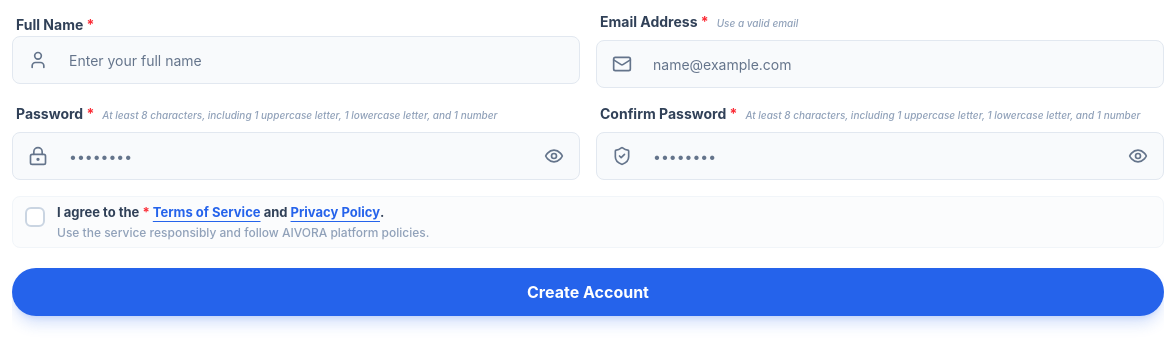
Test case: RegisterForm Component › shows and clears the terms validation error styles
The width and height of the screenshot is (1176, 363).
Step 1. Type "Client QA" into the field labelled "Full Name *" → (296,60), box [12, 36, 580, 84]
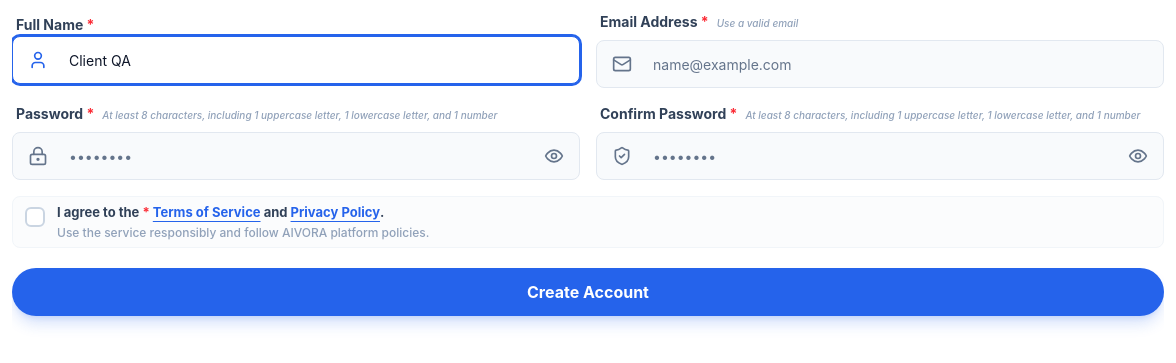
Step 2. Type "client@example.com" into the field labelled "Email Address * Use a valid email" → (880,64), box [596, 40, 1164, 88]
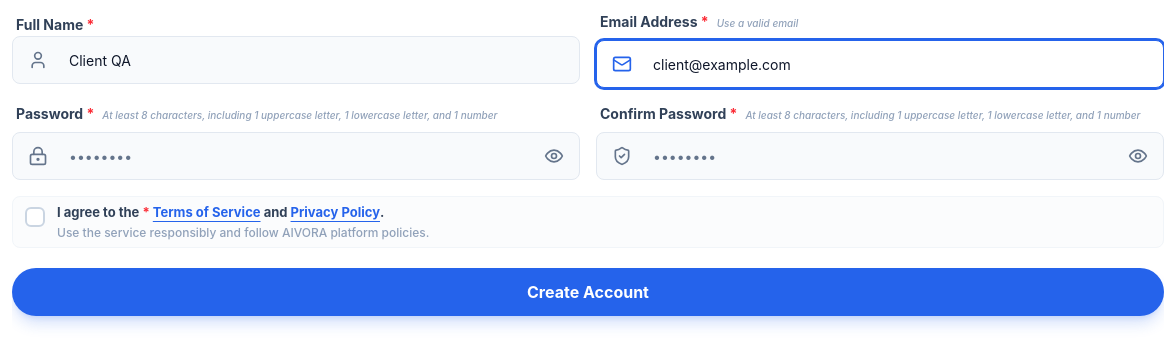
Step 3. Type "Password1" into the password field labelled "Password" → (296,156), box [12, 132, 580, 180]
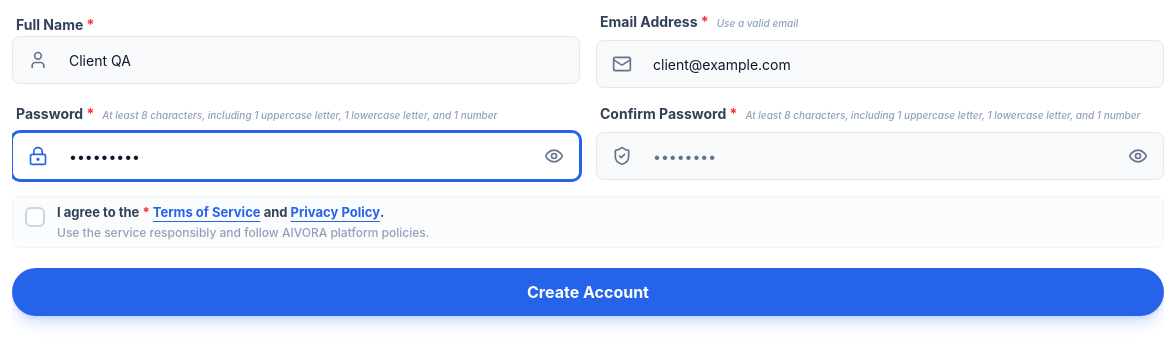
Step 4. Type "Password1" into the password field labelled "Confirm Password" → (880,156), box [596, 132, 1164, 180]
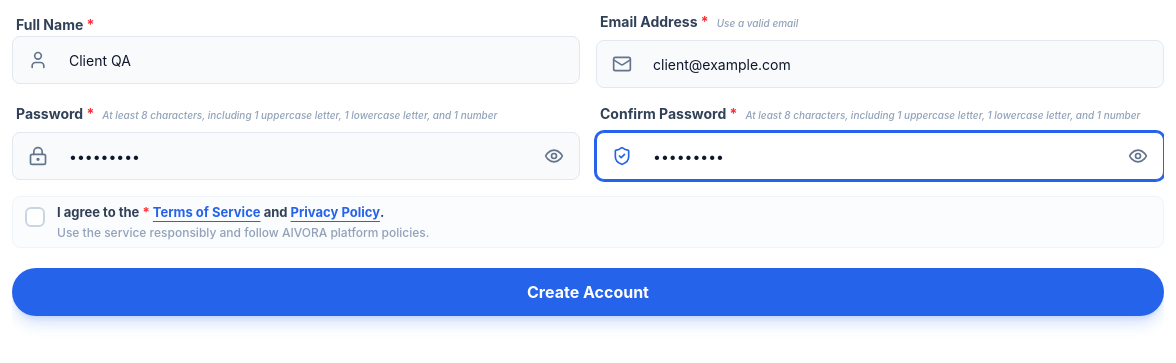
Step 5. Click the button "Create Account" → (588,292), box [12, 268, 1164, 316]
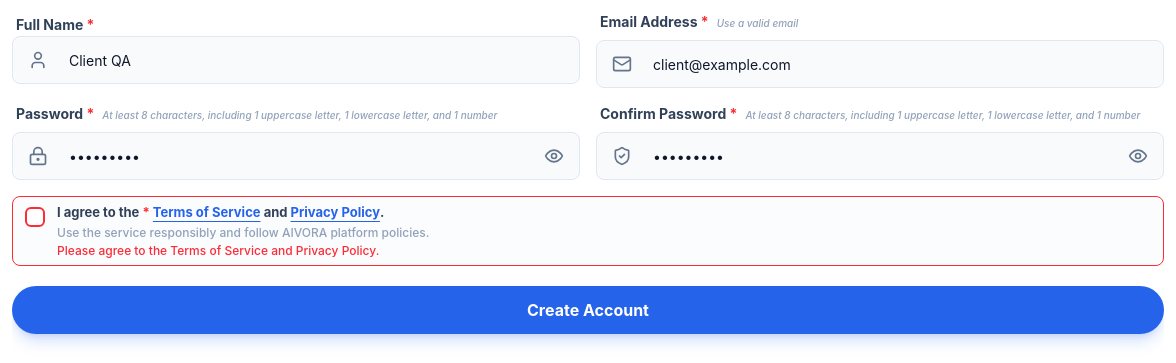
Now the message reads "Please agree to the Terms of Service and Privacy Policy.", box [57, 242, 379, 258]
Step 6. Click the checkbox labelled "I agree to the *" → (35,217), box [25, 207, 45, 227]
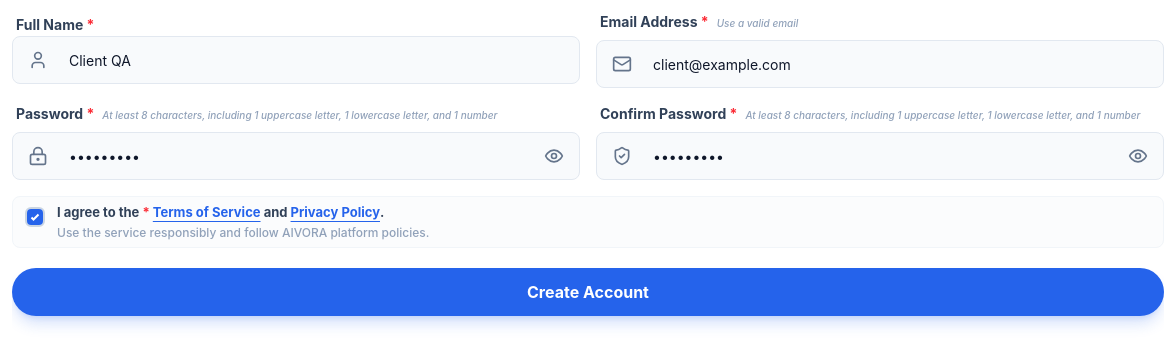
Now the message "Please agree to the Terms of Service and Privacy Policy." is gone
